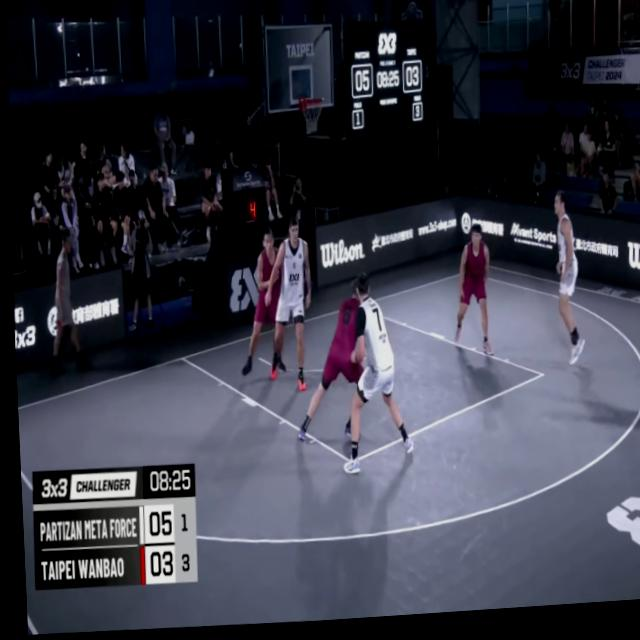hoop: (296, 94, 322, 139)
player: (331, 277, 427, 483), (290, 272, 363, 449), (258, 216, 314, 395), (231, 226, 288, 382), (550, 201, 587, 372), (447, 228, 492, 364)
